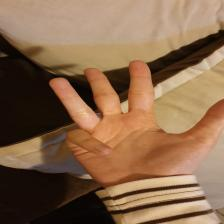five: (45, 59, 222, 186)
